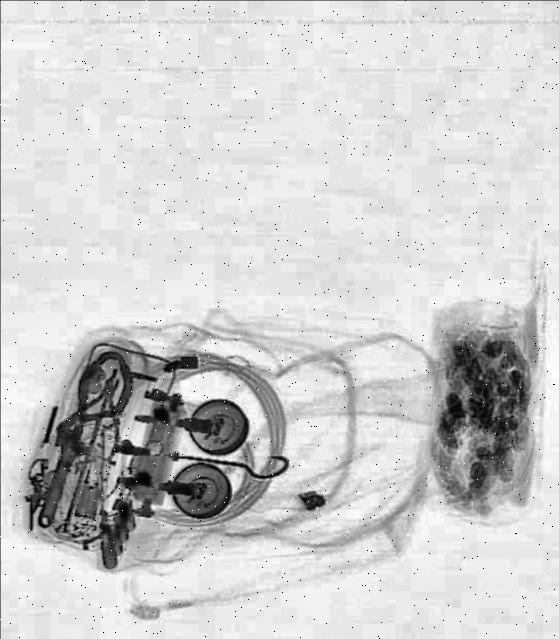Pliers: (54, 360, 142, 463)
Wrench: (25, 412, 95, 534)
